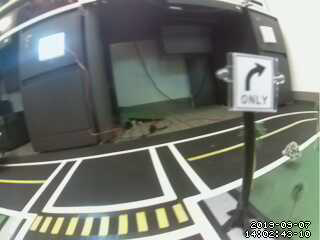Right_only_sign: (233, 53, 288, 112)
